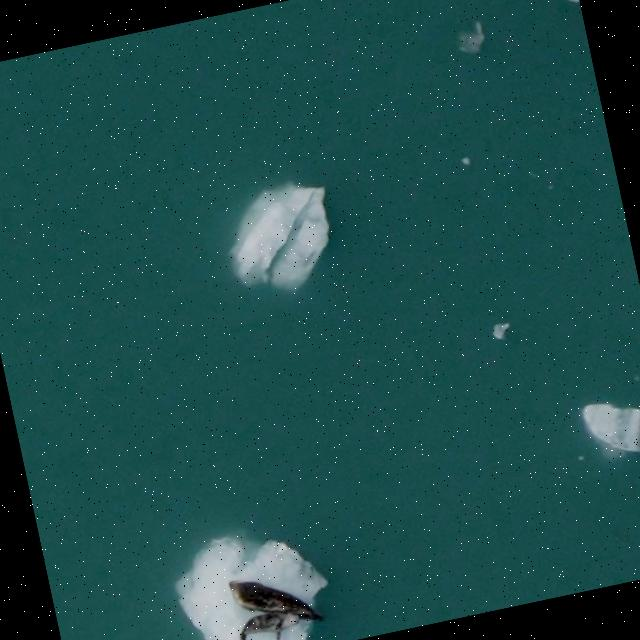seal: (224, 576, 330, 627), (241, 612, 299, 640)
